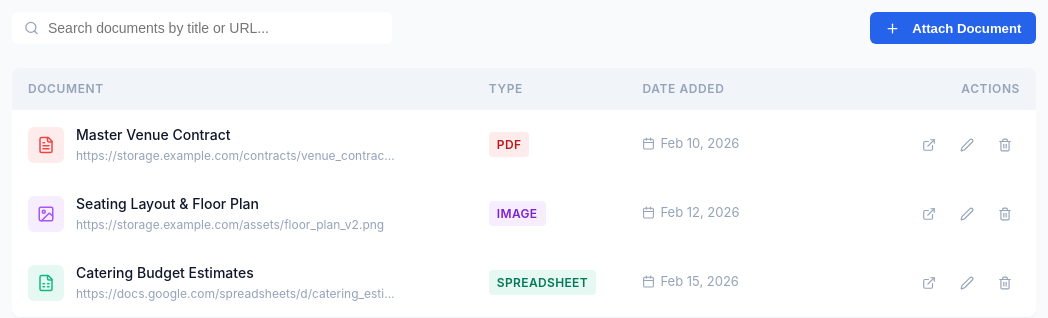
it: DocumentList Component › filters documents based on search query
This screenshot has width=1048, height=318.
Type "floor plan" into the field labelled "Search documents" at (202, 28), box [12, 12, 392, 44]
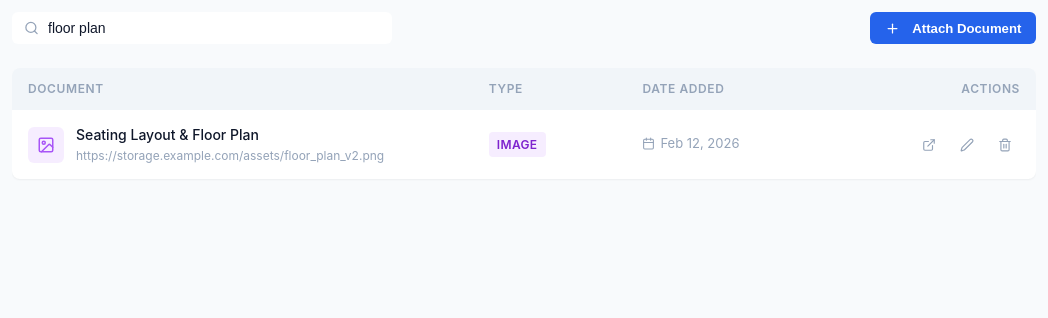
Expected: the link "Seating Layout & Floor Plan" is shown, [76, 126, 259, 143]
Now the link "Master Venue Contract" is gone
Now the link "Catering Budget Estimates" is gone
